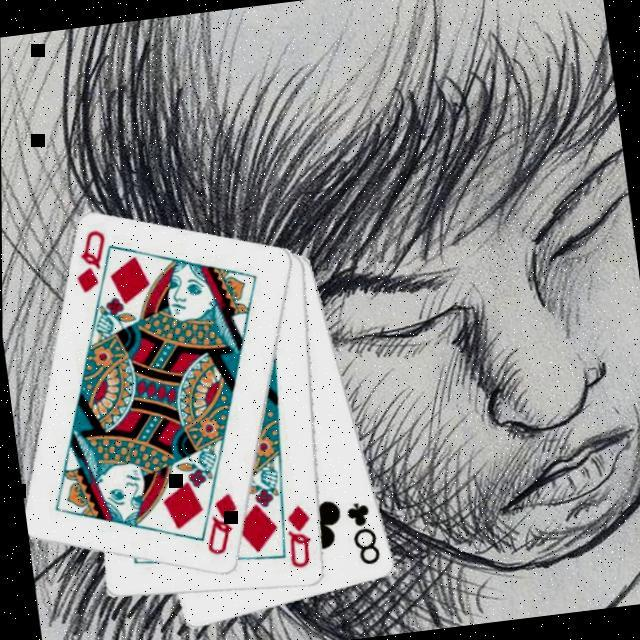8C: (340, 496, 382, 569)
QD: (194, 488, 244, 558), (65, 224, 113, 296), (278, 500, 318, 571)
